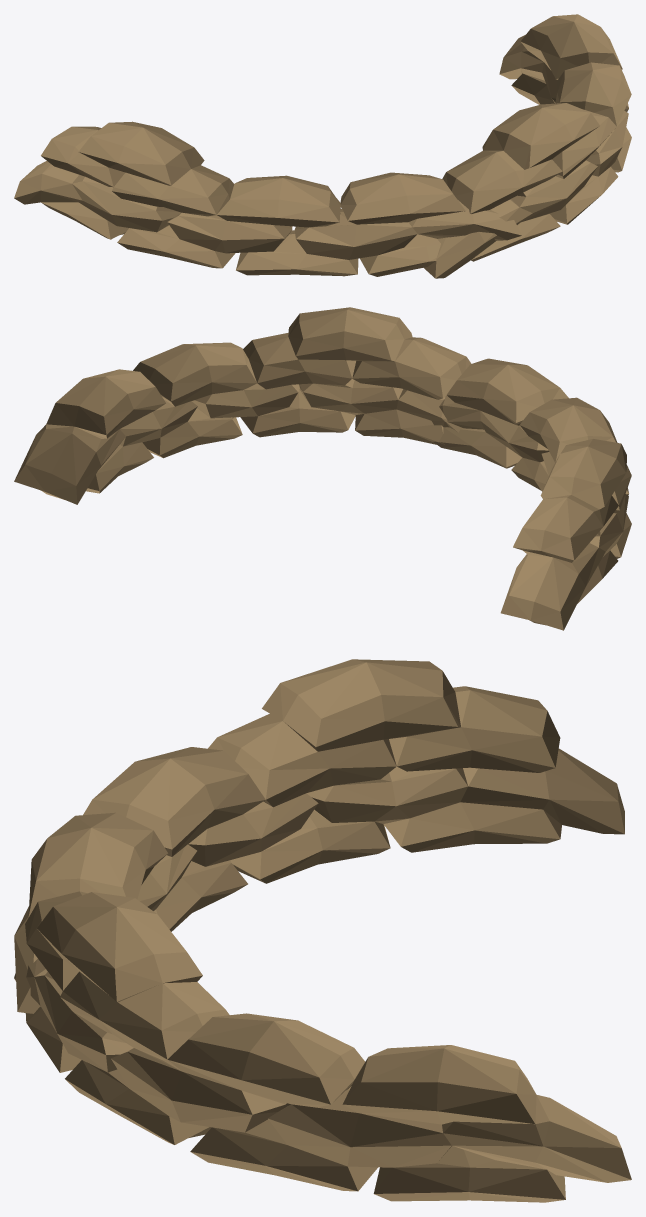
File: model_Sandbags_02.fbx
The picture shows the model from 3 angles, top to bottom: view 1: azimuth 30°, elevation 25°; view 2: azimuth 150°, elevation 25°; view 3: azimuth 270°, elevation 25°; orthographic projection. The views are drawn at different scales.
Parts seen in each view (by area): view 1: model_Sandbags_02; view 2: model_Sandbags_02; view 3: model_Sandbags_02.
Part boxes in pixels (x1=…): model_Sandbags_02: x1=14, y1=14, x2=631, y2=278; model_Sandbags_02: x1=14, y1=307, x2=631, y2=630; model_Sandbags_02: x1=14, y1=659, x2=631, y2=1202.
Bounding box in the file's own units: 433 × 89.34 × 271.
Materials: 1 (1 with a texture image).
